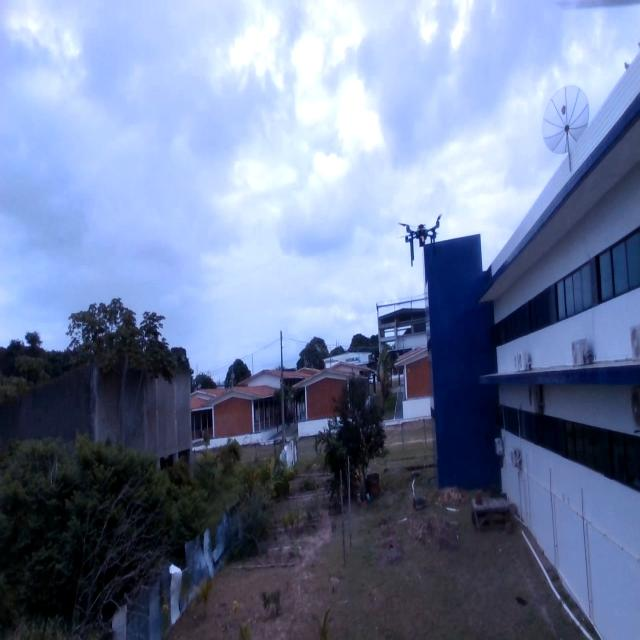-uav-: (389, 209, 457, 274)
